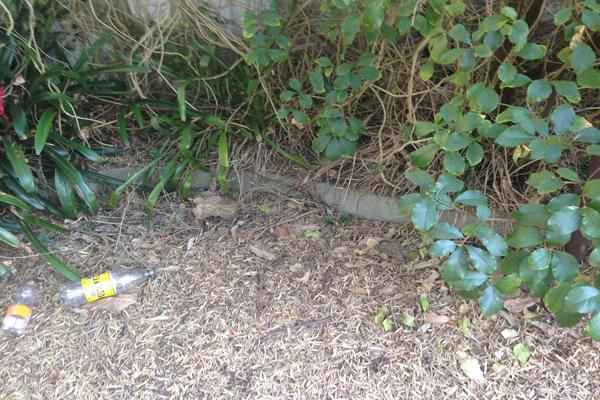Plastic Bottle: (61, 268, 153, 306), (3, 279, 38, 332)
